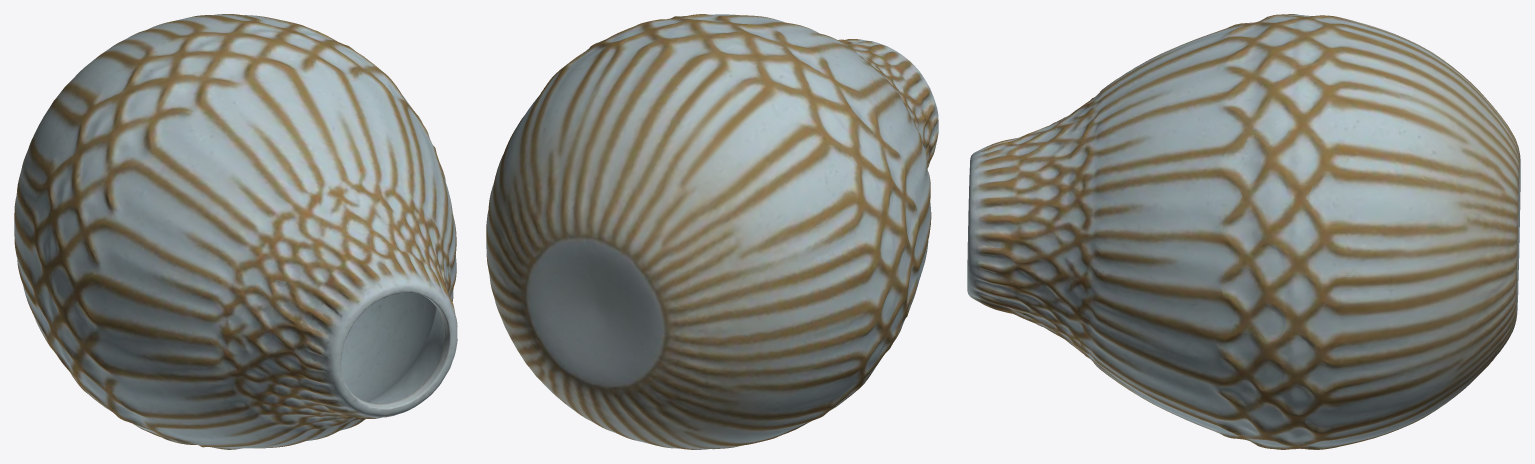
The model's file is trellis2.glb.
The picture shows the model from 3 angles, left to right: view 1: azimuth 30°, elevation 25°; view 2: azimuth 150°, elevation 25°; view 3: azimuth 270°, elevation 25°; orthographic projection.
Visible parts, largest first — view 1: world; view 2: world; view 3: world.
Boxes of the visible parts, box(x1,y1,x2,y2) form: world: box(14, 14, 457, 449); world: box(486, 14, 938, 449); world: box(967, 14, 1520, 449).
Bounding box in the file's own units: 0.7869 × 0.7881 × 1.01.
1 material, 1 textured.
